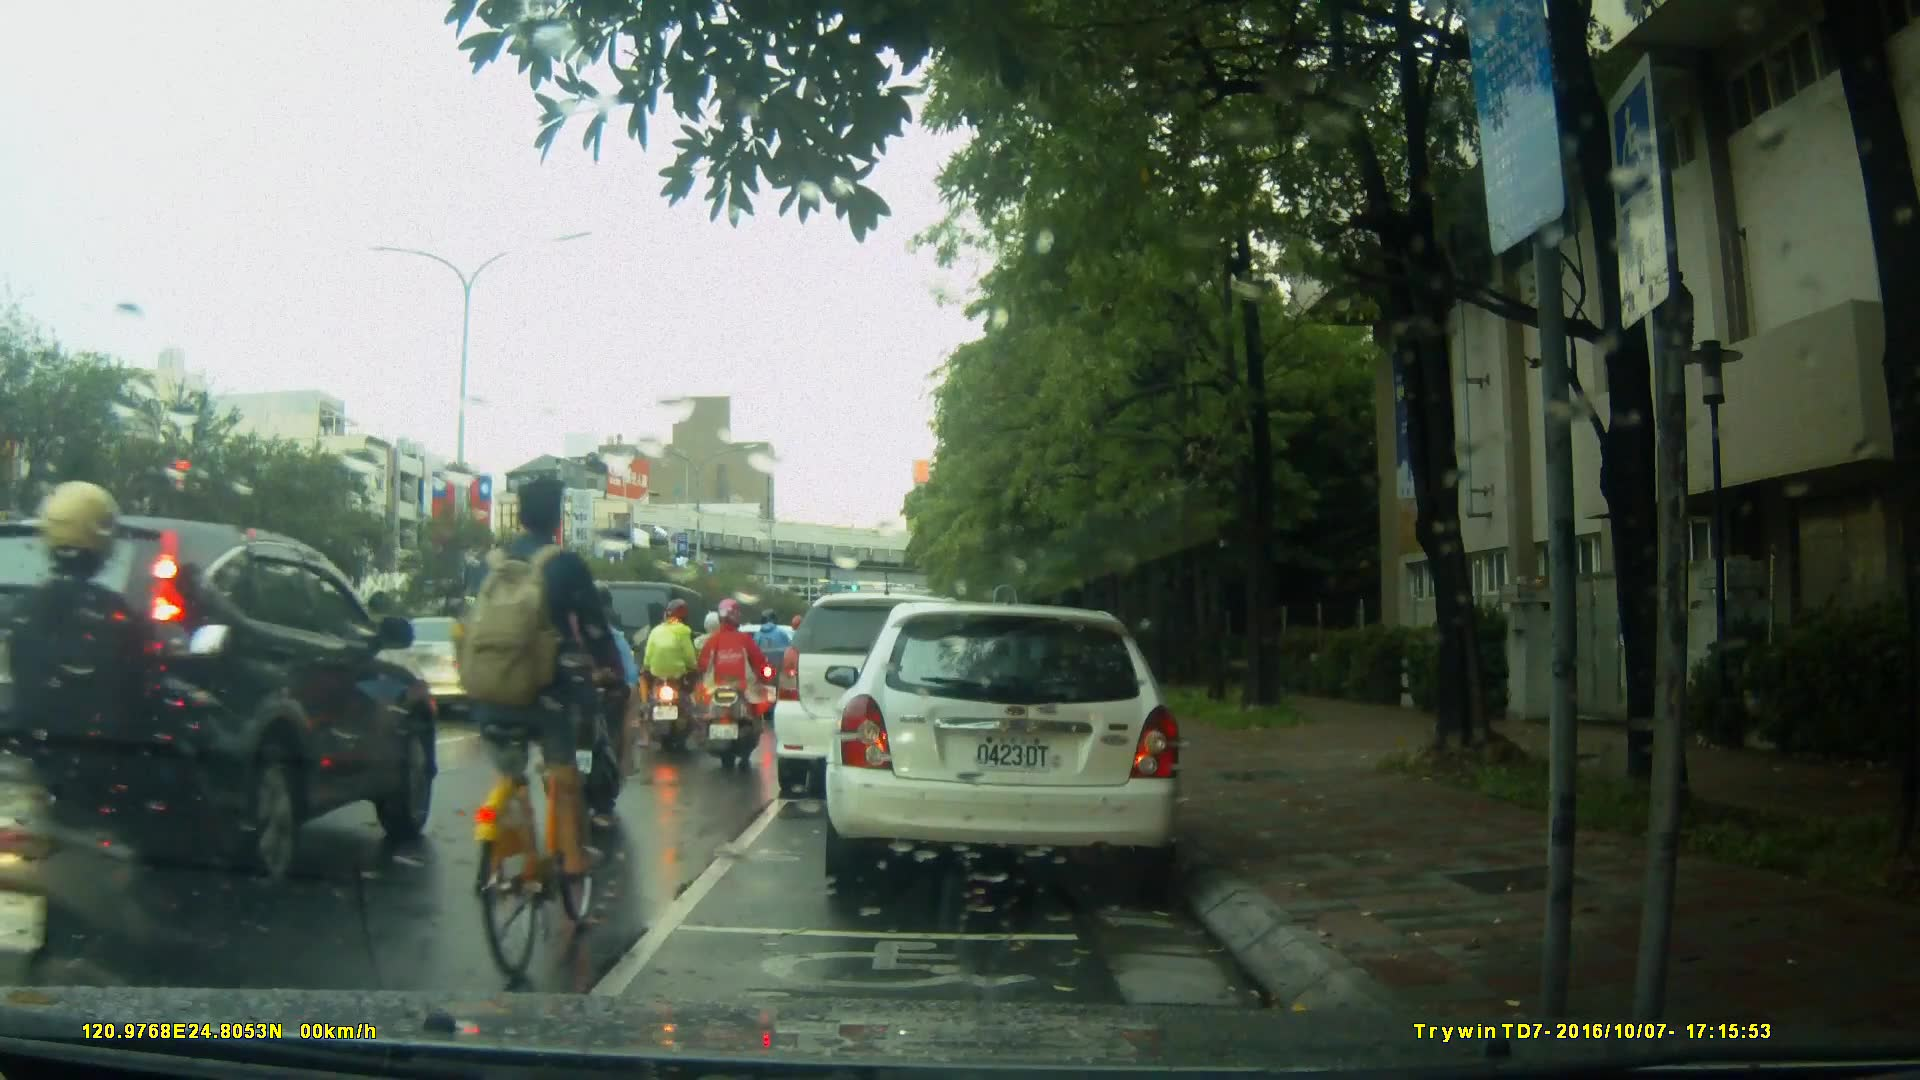rider: (1, 476, 250, 1054), (461, 474, 623, 979), (688, 598, 761, 771), (641, 601, 710, 754), (473, 604, 537, 728), (685, 606, 748, 726), (749, 602, 800, 727)
vehicle: (4, 513, 437, 906), (822, 604, 1188, 883), (774, 595, 995, 802), (342, 610, 532, 724)
